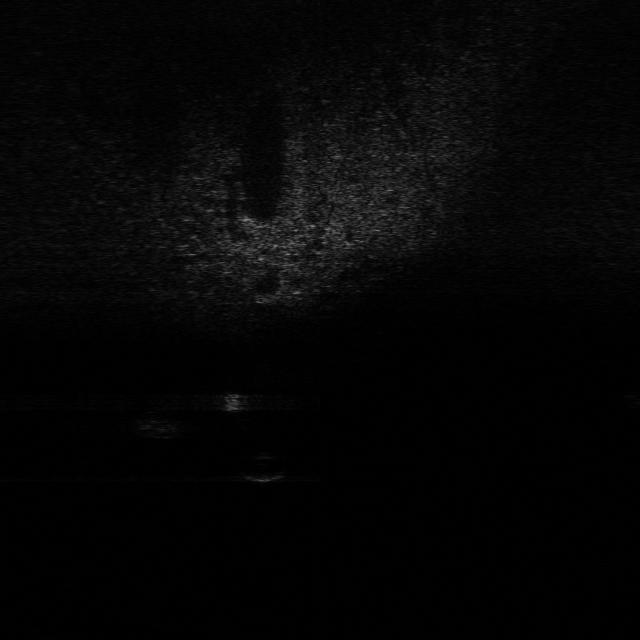ball: (234, 448, 292, 483)
circle cage: (129, 409, 192, 438)
cylinder: (221, 382, 247, 417)
